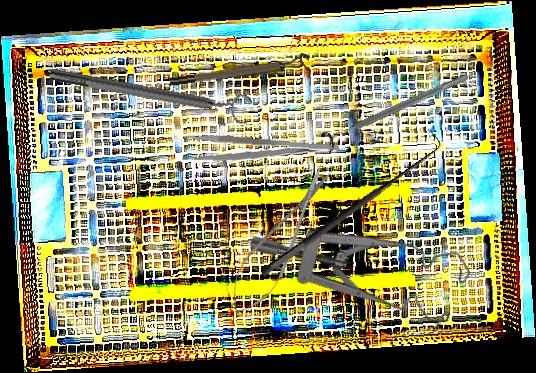Dressing Forceps: (182, 132, 340, 170)
Fixation Ring: (47, 56, 254, 128), (319, 65, 473, 155), (168, 52, 311, 89)
Hook Surgical: (249, 129, 448, 279)
Micro Scissor: (217, 158, 344, 325)
Speculum: (244, 148, 485, 370)
